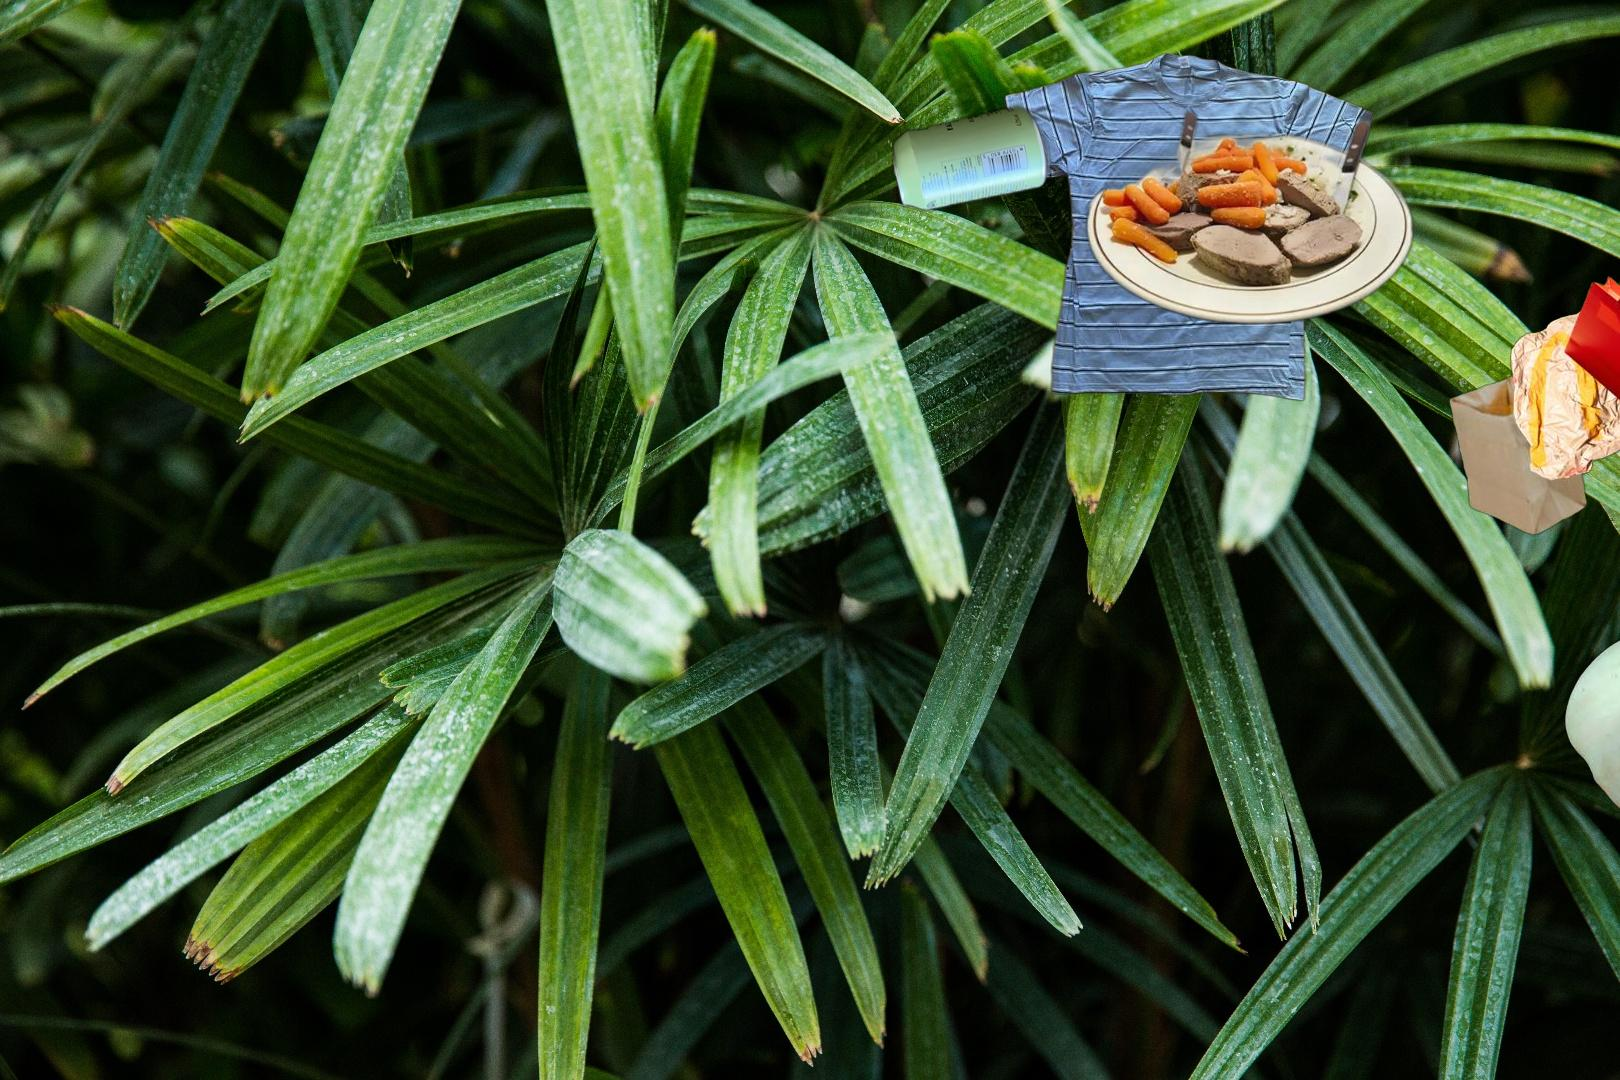biological: (1080, 108, 1420, 327), (1562, 616, 1620, 827)
clothes: (999, 49, 1378, 405)
metal-cans: (888, 98, 1055, 216)
paper-bag: (1446, 272, 1620, 538)
